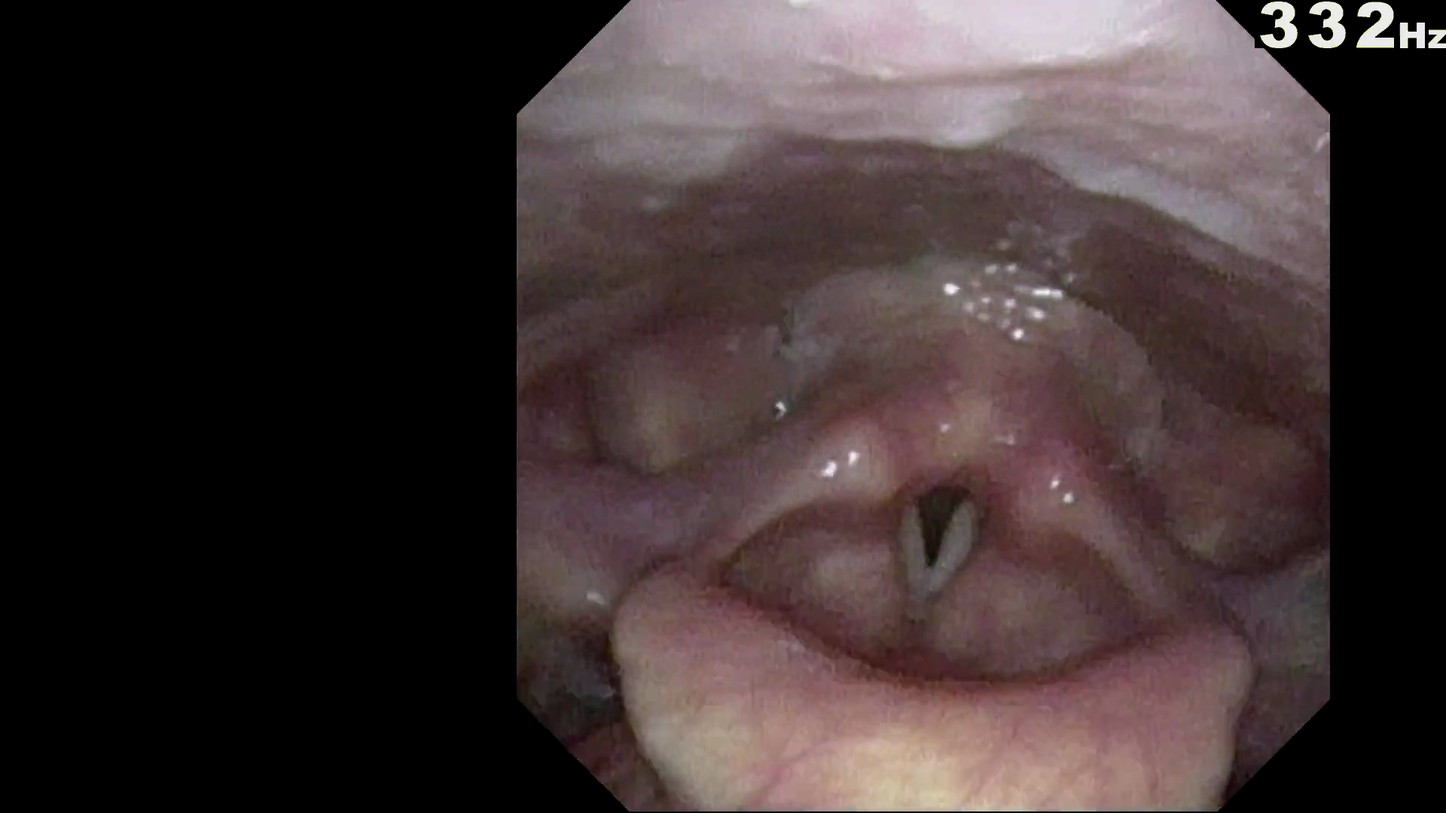epiglottis: (651, 522, 1225, 790)
trachea: (858, 423, 1031, 628)
